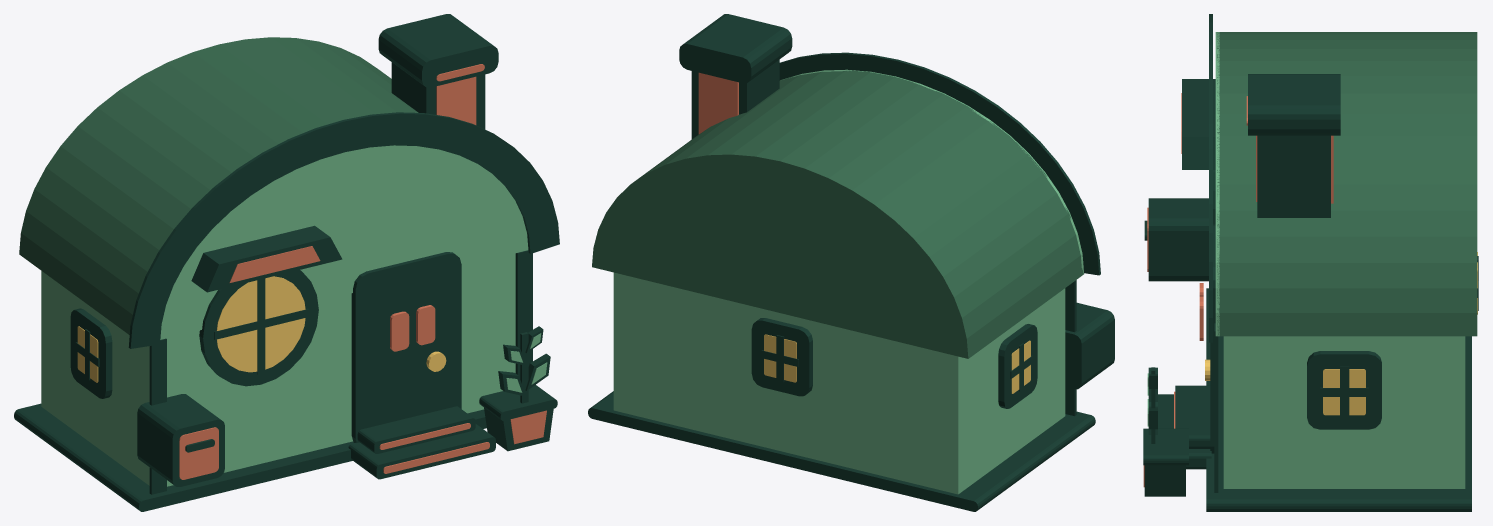
3 views of the same model, side by side, from view 1: azimuth 30°, elevation 25°; view 2: azimuth 150°, elevation 25°; view 3: azimuth 270°, elevation 25° (orthographic). The views are drawn at different scales.
Parts seen in each view (by area): view 1: Rent Free house; view 2: Rent Free house; view 3: Rent Free house.
Part boxes in pixels (x1=…): Rent Free house: x1=14, y1=14, x2=559, y2=511; Rent Free house: x1=588, y1=14, x2=1114, y2=511; Rent Free house: x1=1143, y1=14, x2=1478, y2=511.
Bounding box in the file's own units: 1.12 × 0.9057 × 0.7143.
